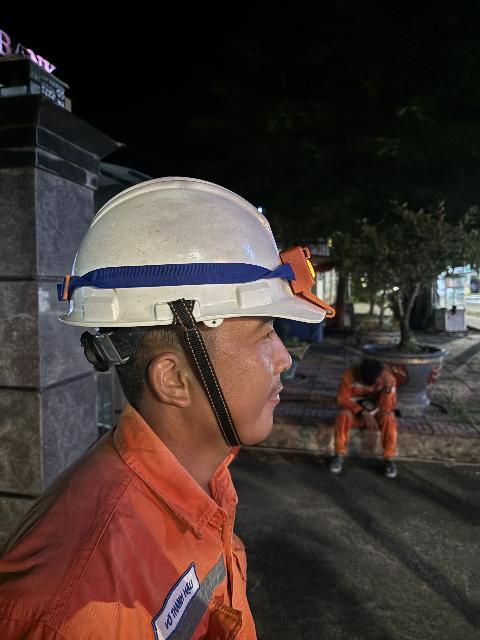helmet: (42, 181, 335, 339)
